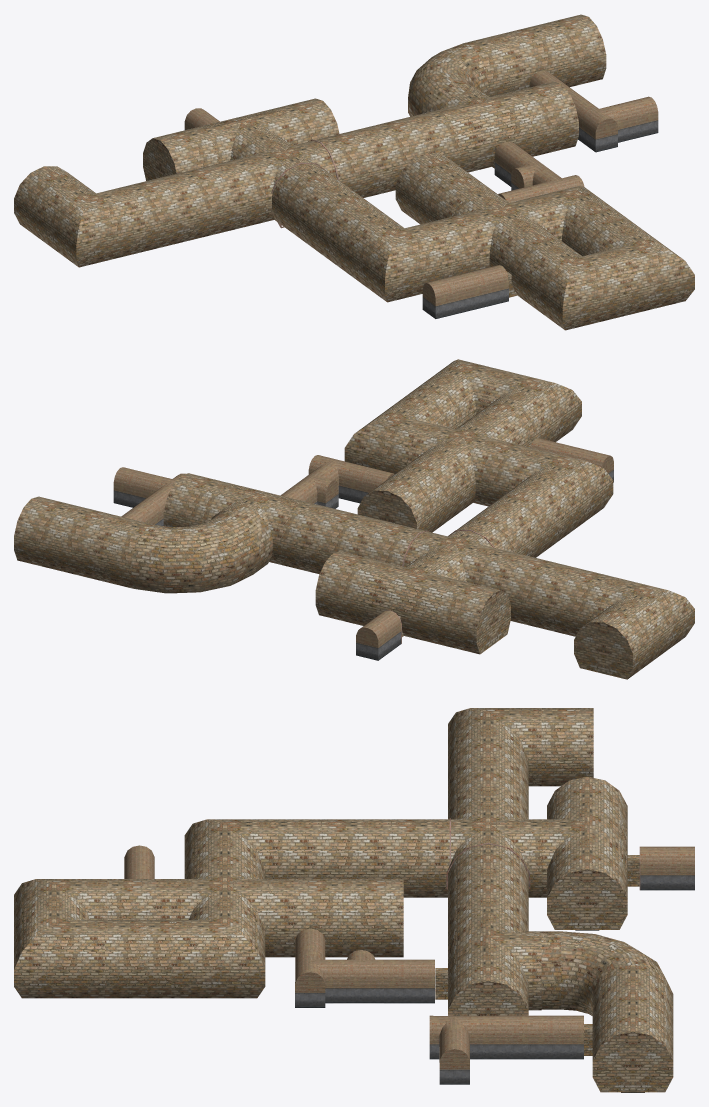
Rendered from Sewer_level.glb.
3 renders of one model, top to bottom at view 1: azimuth 30°, elevation 25°; view 2: azimuth 150°, elevation 25°; view 3: azimuth 270°, elevation 25°, orthographic. The views are drawn at different scales.
Parts seen in each view (by area): view 1: Serwers_003.mesh.002, Serwers.002.mesh.002, Serwers.002.mesh.006, Serwers_003.mesh.003, Serwers.002.mesh.003, Serwers_003.mesh.004, Serwers_013.mesh.002, Serwers.002.mesh.007, SerwersMx_001.mesh.003, Serwers_002.mesh.002, Serwers_002.mesh.003, Serwers_011.mesh.002 (+21 smaller); view 2: Serwers_013.mesh.002, Serwers_003.mesh.002, Serwers_003.mesh.003, SerwersMx_001.mesh.002, Serwers_003.mesh.004, Serwers_011.mesh.007, Serwers_011.mesh.005, Serwers_007.mesh.003, Serwers.002.mesh.004, Serwers.002.mesh.003, Serwers.002.mesh.002, Serwers.002.mesh.006 (+20 smaller); view 3: Serwers_003.mesh.004, Serwers.002.mesh.004, Serwers.002.mesh.007, Serwers_013.mesh.002, Serwers_011.mesh.006, Serwers_011.mesh.004, Serwers_002.mesh.002, Serwers_003.mesh.003, Serwers_003.mesh.002, Serwers_007.mesh.004, SerwersMx_001.mesh.003, Serwers_011.mesh.003 (+25 smaller).
Boxes of the visible parts, box(x1,y1,x2,y2) form: Serwers_003.mesh.002: box(117, 158, 265, 251); Serwers.002.mesh.002: box(36, 182, 145, 267); Serwers.002.mesh.006: box(522, 245, 631, 330); Serwers_003.mesh.003: box(317, 110, 461, 197); Serwers.002.mesh.003: box(344, 217, 454, 302); Serwers_003.mesh.004: box(275, 168, 396, 275); Serwers_013.mesh.002: box(408, 37, 513, 116); Serwers.002.mesh.007: box(598, 228, 694, 316); SerwersMx_001.mesh.003: box(437, 86, 533, 172); Serwers_002.mesh.002: box(235, 135, 341, 223); Serwers_002.mesh.003: box(452, 192, 550, 269); Serwers_011.mesh.002: box(509, 81, 578, 156); Serwers_013.mesh.002: box(106, 506, 272, 593); Serwers_003.mesh.002: box(478, 549, 620, 636); Serwers_003.mesh.003: box(281, 501, 422, 574); SerwersMx_001.mesh.002: box(356, 556, 459, 643); Serwers_003.mesh.004: box(457, 477, 573, 557); Serwers_011.mesh.007: box(574, 603, 659, 679); Serwers_011.mesh.005: box(431, 579, 510, 654); Serwers_007.mesh.003: box(52, 507, 136, 584); Serwers.002.mesh.004: box(344, 401, 437, 473); Serwers.002.mesh.003: box(510, 448, 613, 533); Serwers.002.mesh.002: box(592, 578, 694, 660); Serwers.002.mesh.006: box(479, 371, 581, 442); Serwers_003.mesh.004: box(274, 819, 434, 897); Serwers.002.mesh.004: box(171, 901, 265, 998); Serwers.002.mesh.007: box(14, 901, 107, 998); Serwers_013.mesh.002: box(525, 931, 673, 1015); Serwers_011.mesh.006: box(592, 1006, 673, 1092); Serwers_011.mesh.004: box(547, 843, 627, 930); Serwers_002.mesh.002: box(434, 800, 541, 897); Serwers_003.mesh.003: box(448, 846, 528, 941); Serwers_003.mesh.002: box(448, 732, 528, 819); Serwers_007.mesh.004: box(269, 879, 351, 957); SerwersMx_001.mesh.003: box(435, 913, 541, 1010); Serwers_011.mesh.003: box(342, 879, 403, 957).
Bounding box in the file's own units: 65.36 × 6.35 × 55.85.
24 materials, 24 textured.
